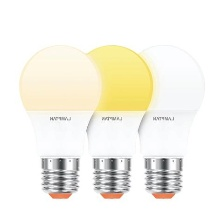light_bulb: (16, 43, 104, 204), (124, 41, 211, 201), (74, 40, 157, 203)
